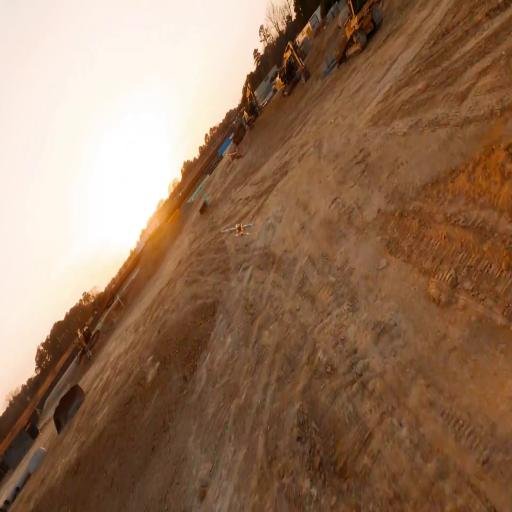uav: (221, 222, 253, 238)
